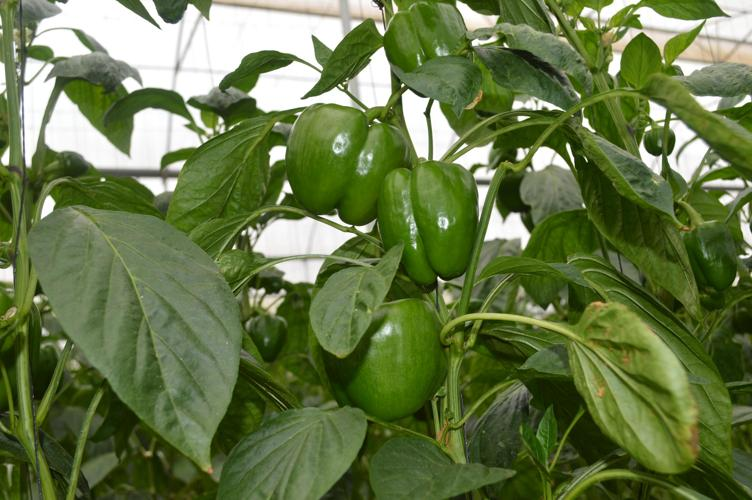BellPepper: (282, 98, 408, 247), (318, 301, 444, 425), (376, 161, 488, 285), (241, 305, 295, 368)
